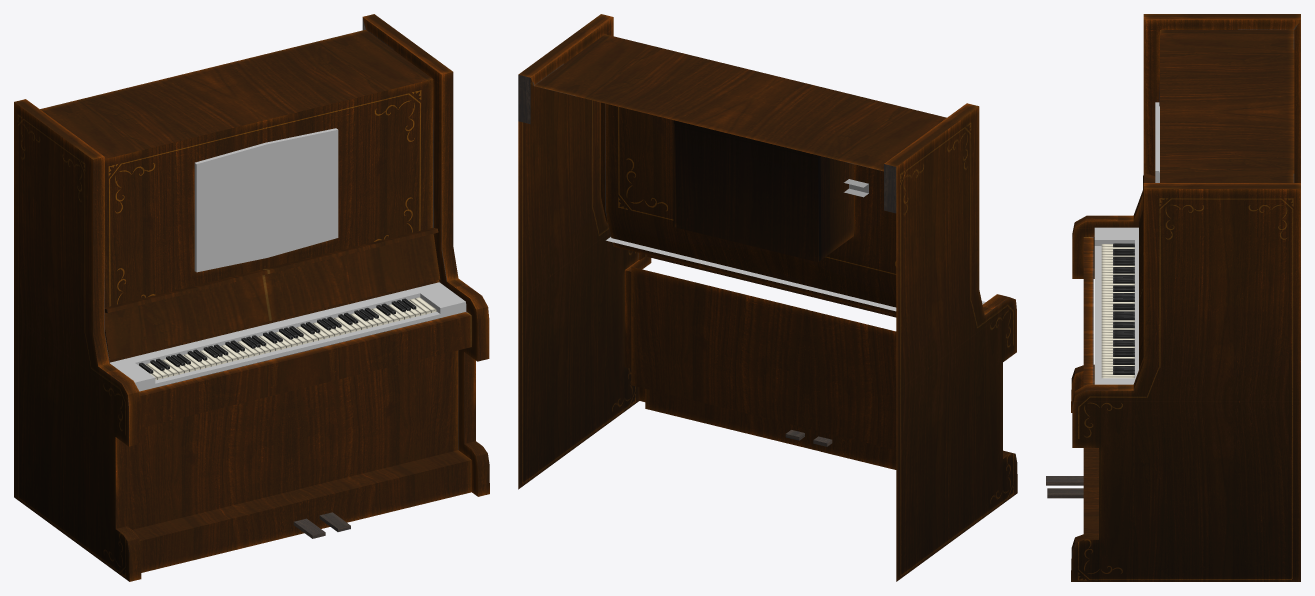
Rendered from Piano_final.fbx.
3 views of the same model, side by side, from view 1: azimuth 30°, elevation 25°; view 2: azimuth 150°, elevation 25°; view 3: azimuth 270°, elevation 25° (orthographic). The views are drawn at different scales.
Parts seen in each view (by area): view 1: pCube91, pCube7, polySurface3, pCube8; view 2: pCube91, pCube8; view 3: pCube91, pCube8, pCube7, polySurface9, polySurface3, polySurface10.
Boxes of the visible parts, bbox=[...] form: pCube91: bbox=[14, 14, 489, 581]; pCube7: bbox=[105, 227, 440, 360]; polySurface3: bbox=[194, 128, 338, 272]; pCube8: bbox=[110, 282, 466, 391]; pCube91: bbox=[518, 14, 1017, 581]; pCube8: bbox=[606, 237, 985, 311]; pCube91: bbox=[1071, 14, 1300, 581]; pCube8: bbox=[1094, 227, 1138, 384]; pCube7: bbox=[1139, 173, 1155, 368]; polySurface9: bbox=[1047, 488, 1083, 498]; polySurface3: bbox=[1155, 102, 1159, 182]; polySurface10: bbox=[1046, 476, 1083, 485].
Bounding box in the file's own units: 111 × 116 × 68.15.
